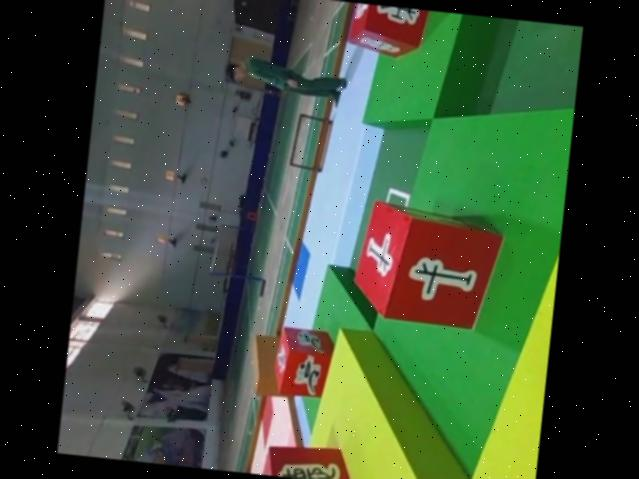R1: (273, 326, 335, 398)
R2 Fake: (255, 440, 367, 479)
R2 Real: (352, 197, 509, 330), (346, 2, 435, 59)
